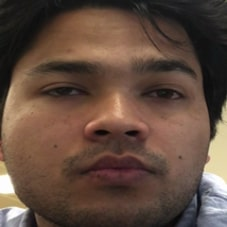drowsy: (25, 43, 200, 190)
